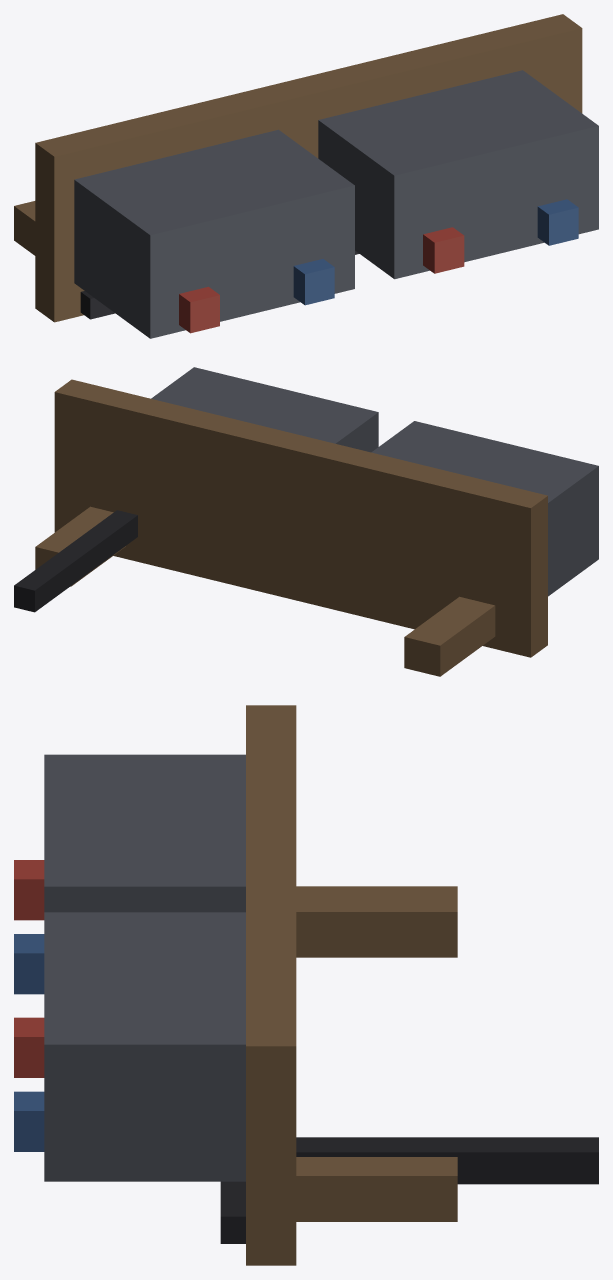
Rendered from bank_wall_makeshift_c2_S.obj.
3 views of the same model, one above another, from view 1: azimuth 30°, elevation 25°; view 2: azimuth 150°, elevation 25°; view 3: azimuth 270°, elevation 25° (orthographic). The views are drawn at different scales.
Parts seen in each view (by area): view 1: bank_wall_makeshift_c2_S; view 2: bank_wall_makeshift_c2_S; view 3: bank_wall_makeshift_c2_S.
Boxes of the visible parts, bbox=[...] form: bank_wall_makeshift_c2_S: bbox=[14, 14, 598, 338]; bank_wall_makeshift_c2_S: bbox=[14, 367, 598, 676]; bank_wall_makeshift_c2_S: bbox=[14, 705, 598, 1265].
Bounding box in the file's own units: 0.8 × 0.24 × 0.58.
1 material, 1 textured.
